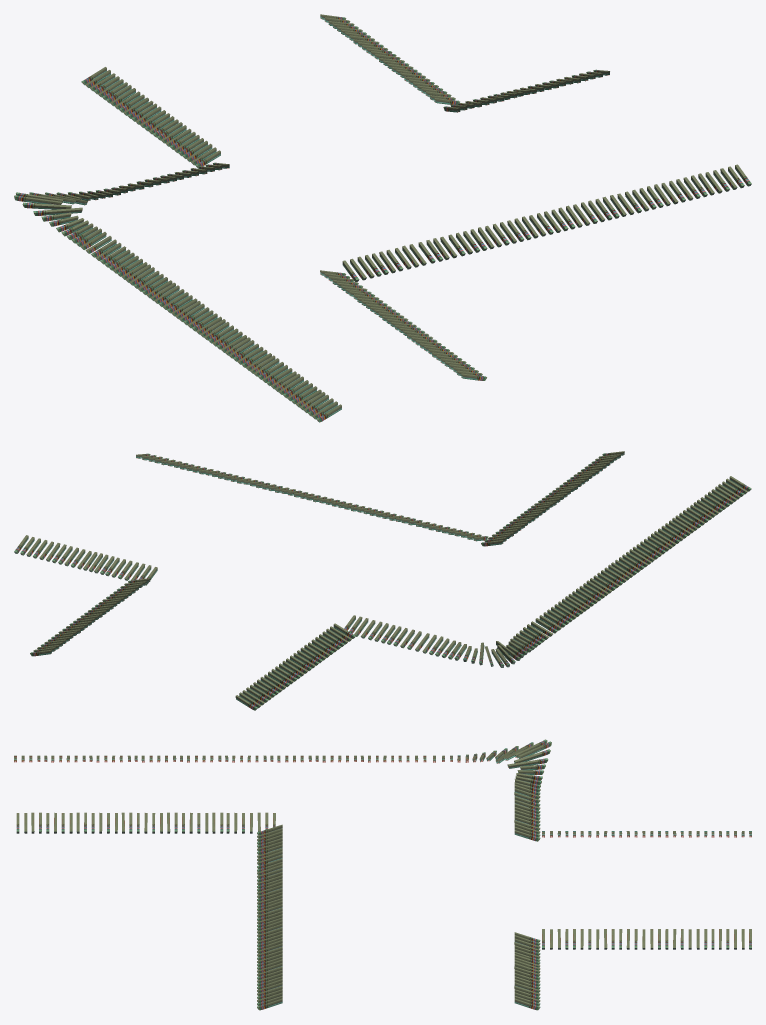
Rendered from SM_Buyeon05F.fbx.
3 views of the same model, one above another, from view 1: azimuth 30°, elevation 25°; view 2: azimuth 150°, elevation 25°; view 3: azimuth 270°, elevation 25° (orthographic). The views are drawn at different scales.
Visible parts, largest first — view 1: SM_Buyeon05F; view 2: SM_Buyeon05F; view 3: SM_Buyeon05F.
Part boxes in pixels (x1,y1,x2,y2): SM_Buyeon05F: [14, 14, 751, 422]; SM_Buyeon05F: [14, 451, 751, 710]; SM_Buyeon05F: [14, 739, 751, 1010].
Size of the model in its own units: 2179 by 2646 by 56.
1 material, 1 textured.
